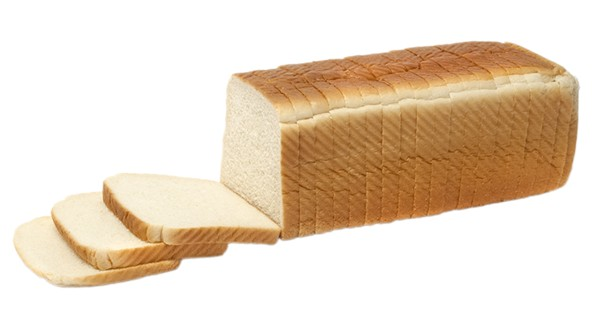slice of bread: (15, 44, 578, 286), (13, 171, 269, 285), (103, 172, 283, 252)
